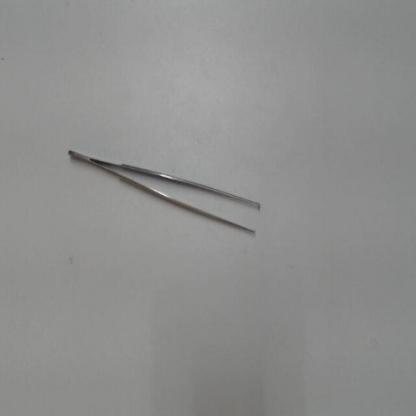Gillies Toothed Dissector: (58, 141, 266, 247)
